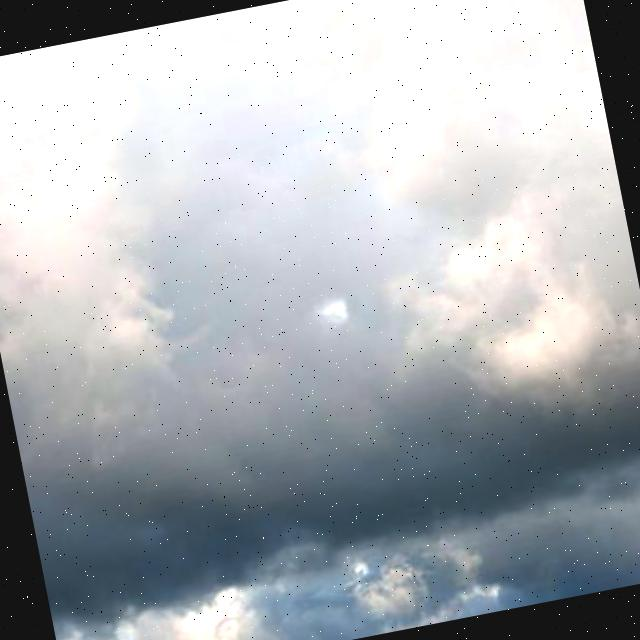As: (1, 3, 640, 640)
